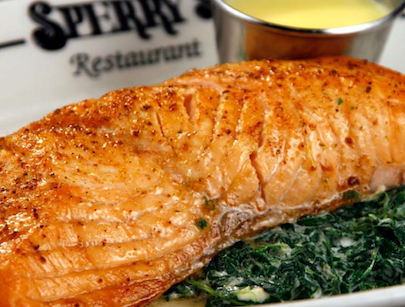curry: (173, 182, 405, 303)
sushi: (211, 0, 405, 66)
